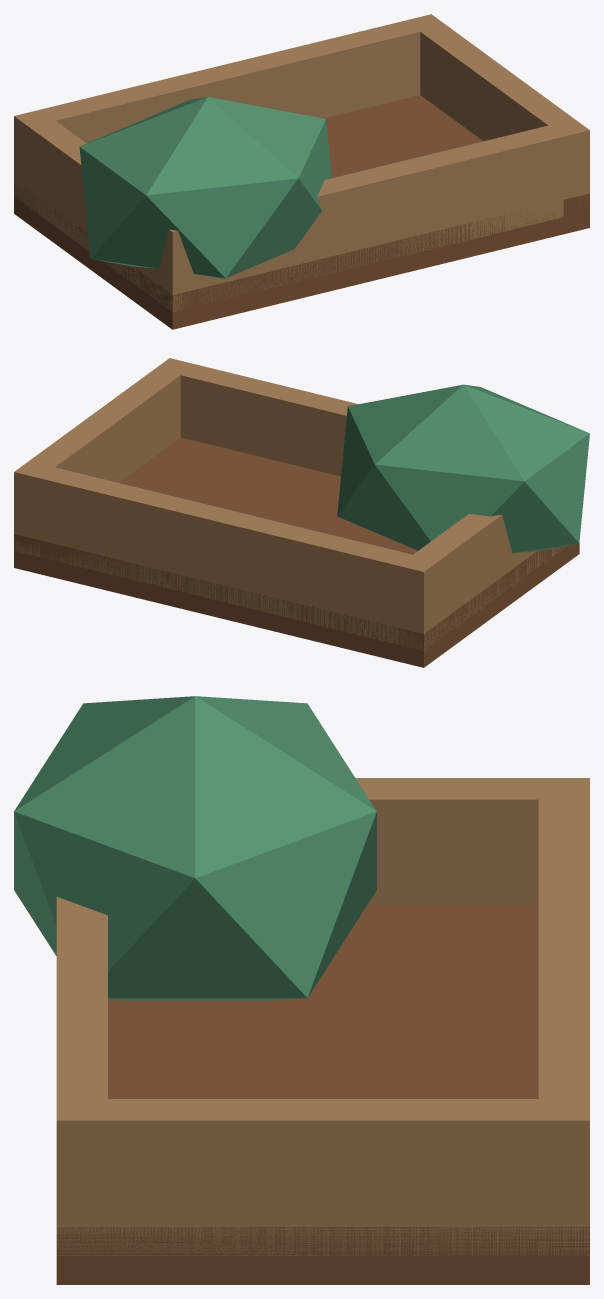
Rendered from set_cabbage_head.glb.
The picture shows the model from 3 angles, top to bottom: view 1: azimuth 30°, elevation 25°; view 2: azimuth 150°, elevation 25°; view 3: azimuth 270°, elevation 25°; orthographic projection. The views are drawn at different scales.
Parts seen in each view (by area): view 1: set_cabbage_head; view 2: set_cabbage_head; view 3: set_cabbage_head.
Part boxes in pixels (box(x1,y1,x2,y2)): set_cabbage_head: box(14, 14, 589, 329); set_cabbage_head: box(14, 358, 589, 667); set_cabbage_head: box(14, 696, 589, 1284).
Size of the model in its own units: 0.4173 by 0.16 by 0.2701.
